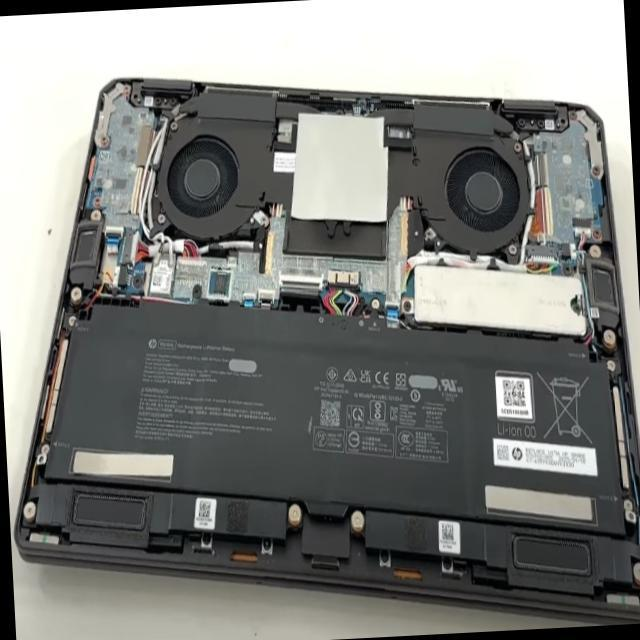Battery: (413, 262, 587, 346)
RAM: (61, 286, 487, 528)
Screw: (145, 250, 174, 299)
